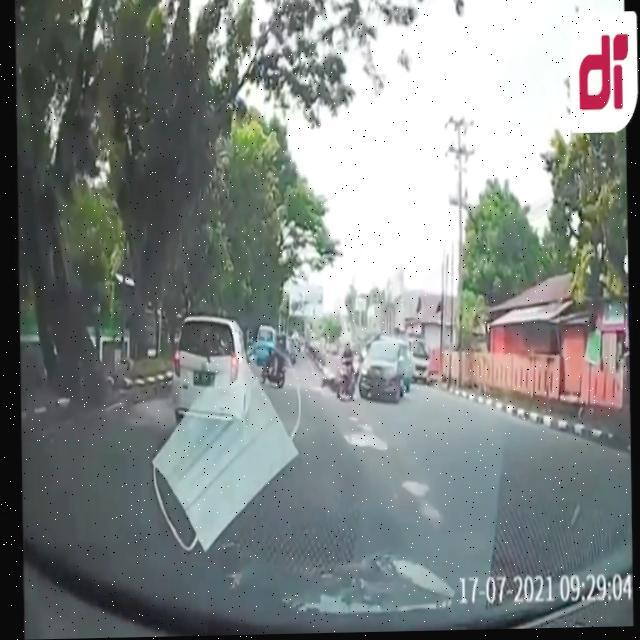multiple_accident: (319, 319, 421, 433)
